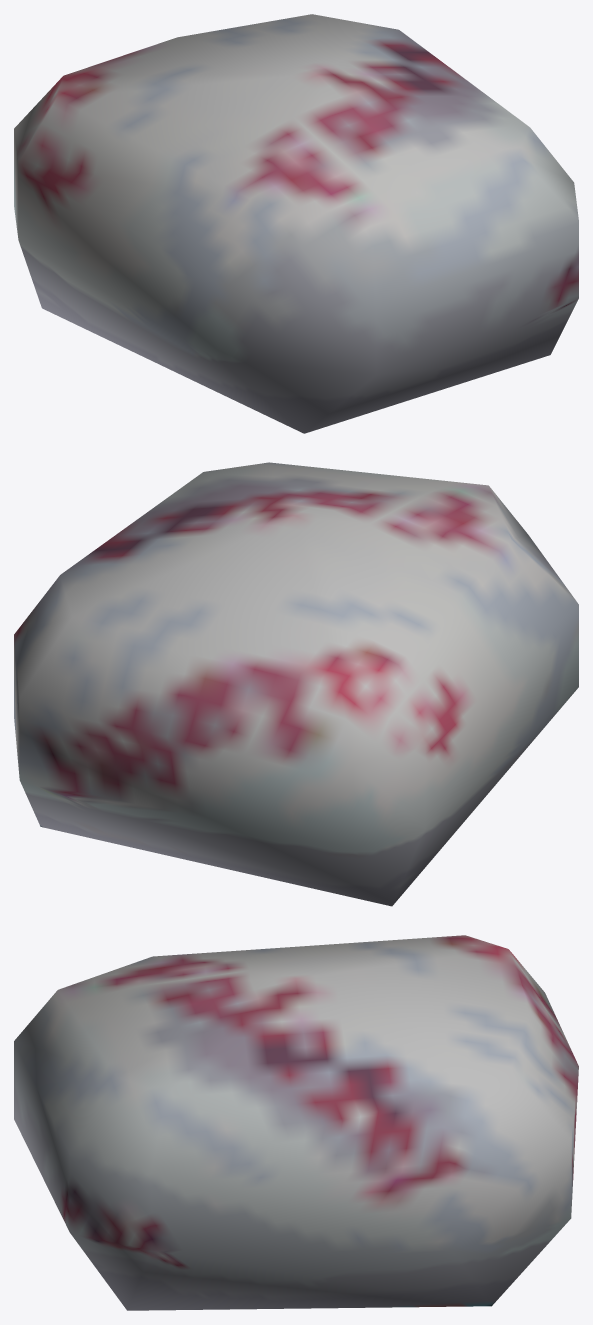
Rendered from Pixel_Misc_S_0030.fbx.
3 views of the same model, one above another, from view 1: azimuth 30°, elevation 25°; view 2: azimuth 150°, elevation 25°; view 3: azimuth 270°, elevation 25° (orthographic). The views are drawn at different scales.
Visible parts, largest first — view 1: Pixel_Misc_S_0030; view 2: Pixel_Misc_S_0030; view 3: Pixel_Misc_S_0030.
Part boxes in pixels (x1,y1,x2,y2): Pixel_Misc_S_0030: [14, 14, 578, 433]; Pixel_Misc_S_0030: [14, 462, 578, 906]; Pixel_Misc_S_0030: [14, 935, 578, 1310].
Bounding box in the file's own units: 18.65 × 11.49 × 22.82.
